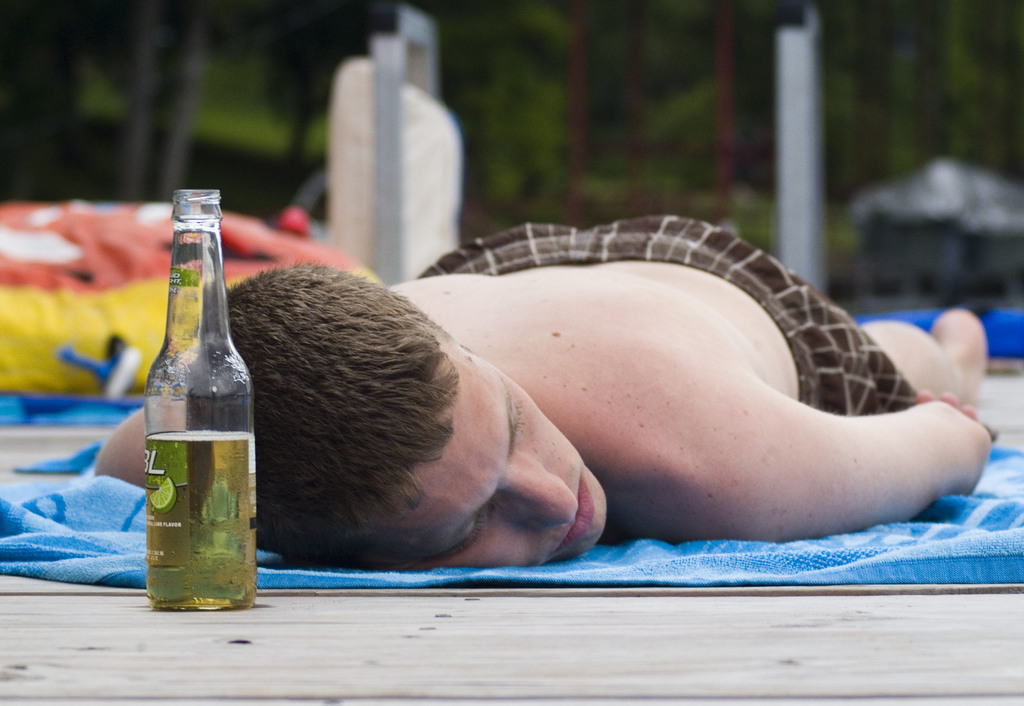Beer: (135, 188, 259, 605)
